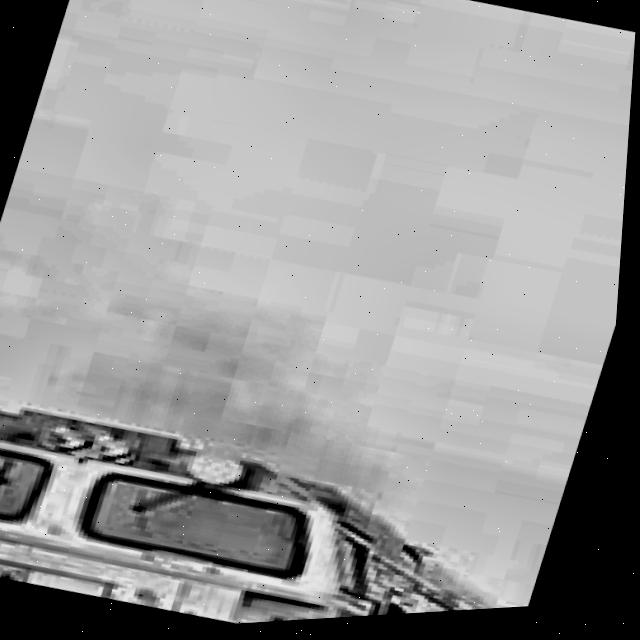Lokomotif: (0, 335, 581, 640)
